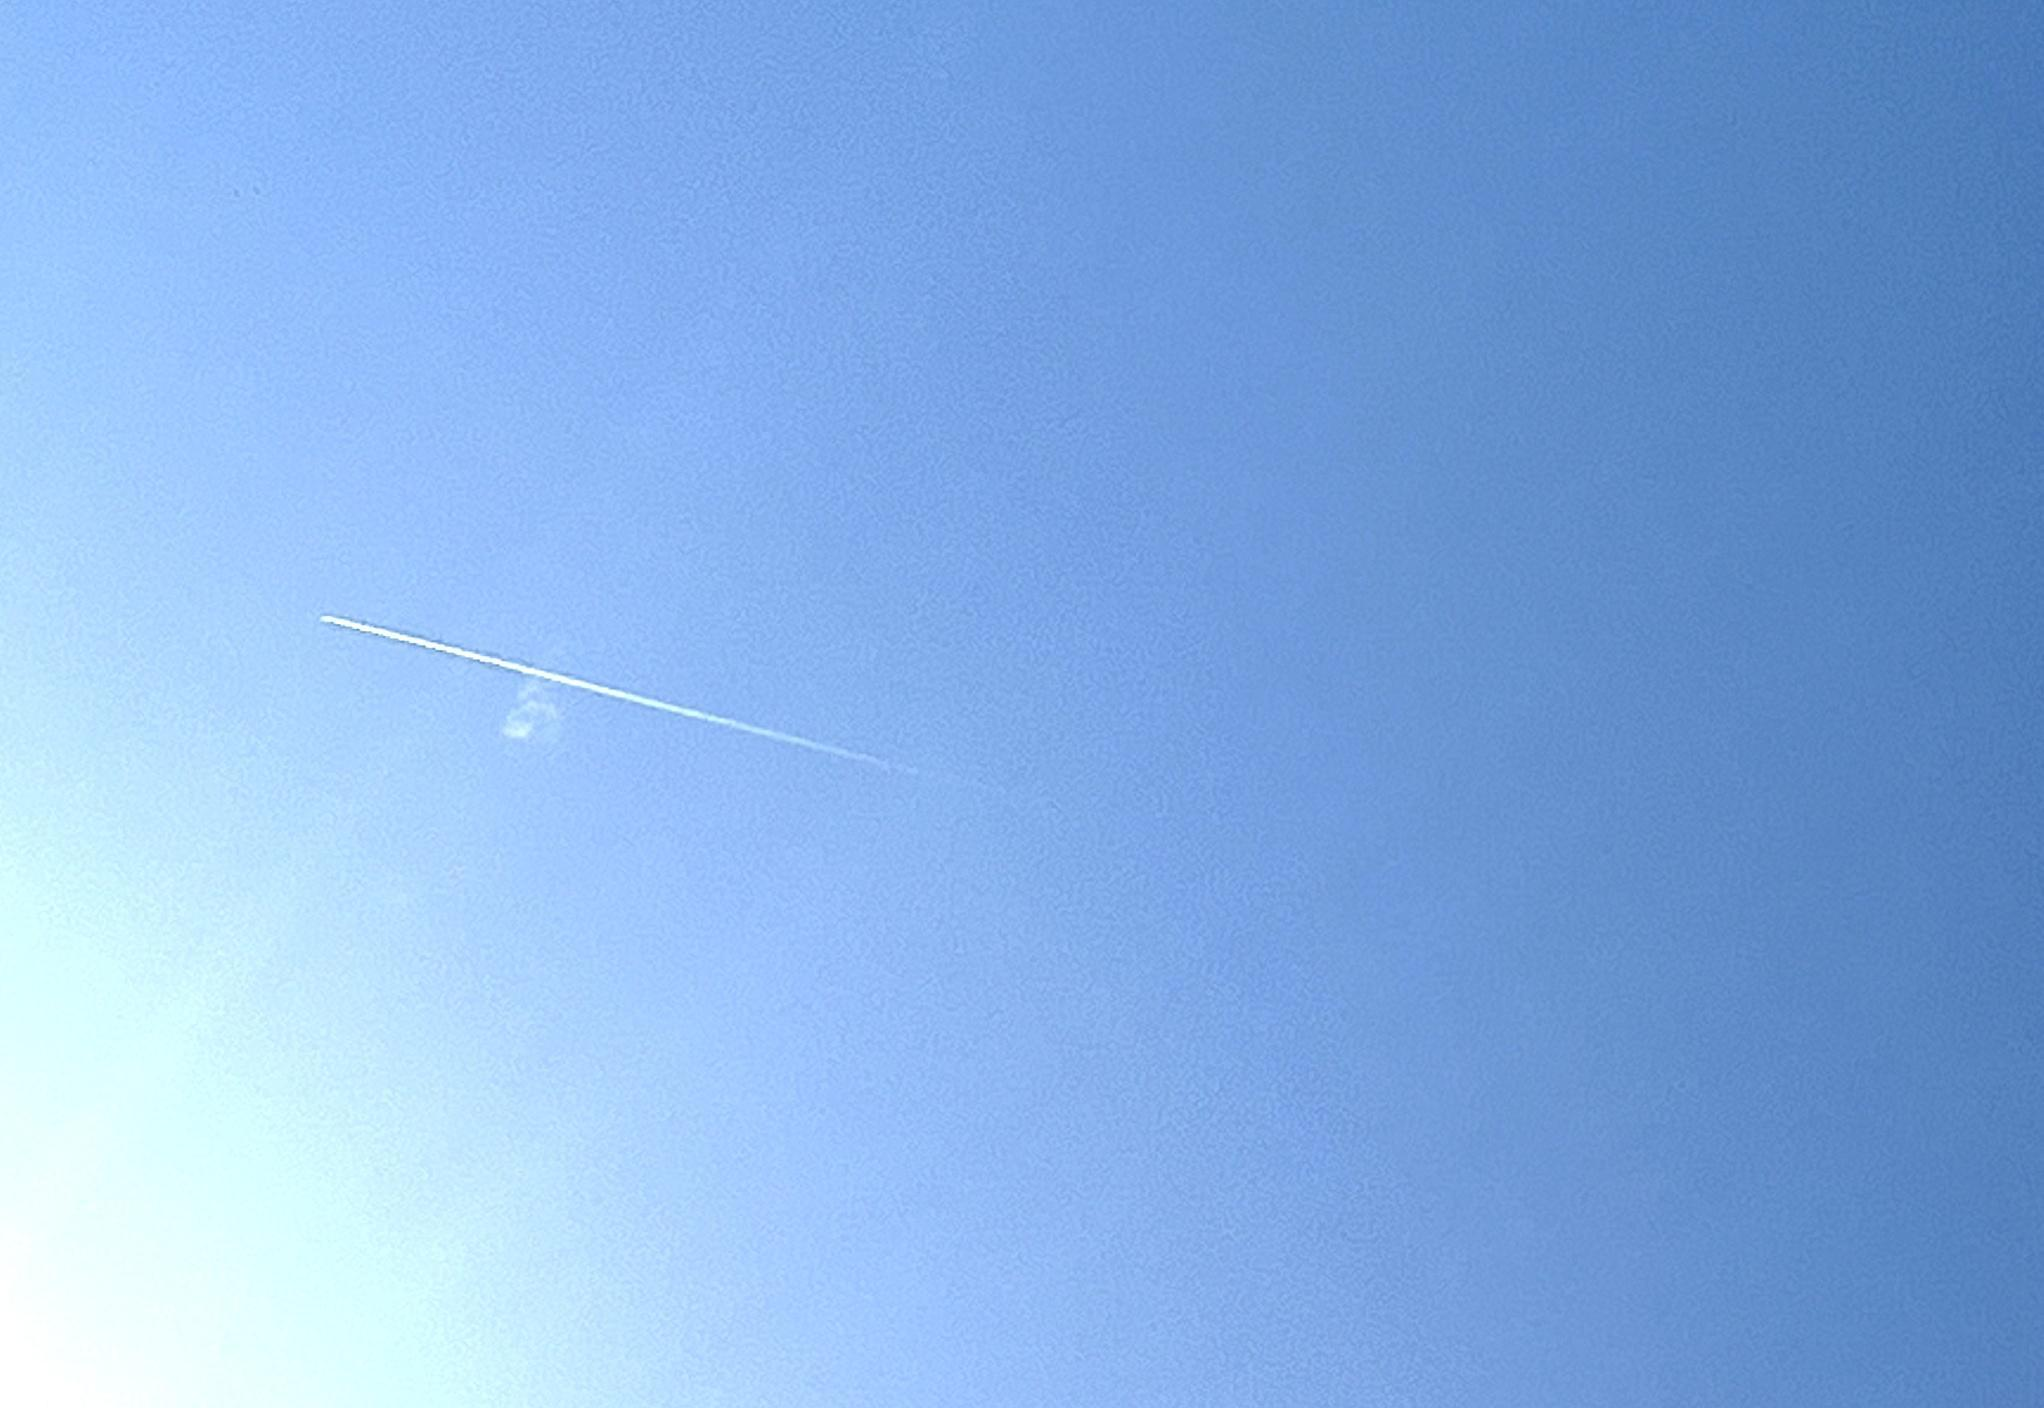Plane: (289, 590, 941, 770)
